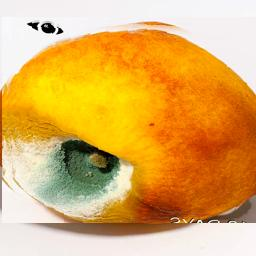Peach Rotten: (2, 17, 256, 223)
